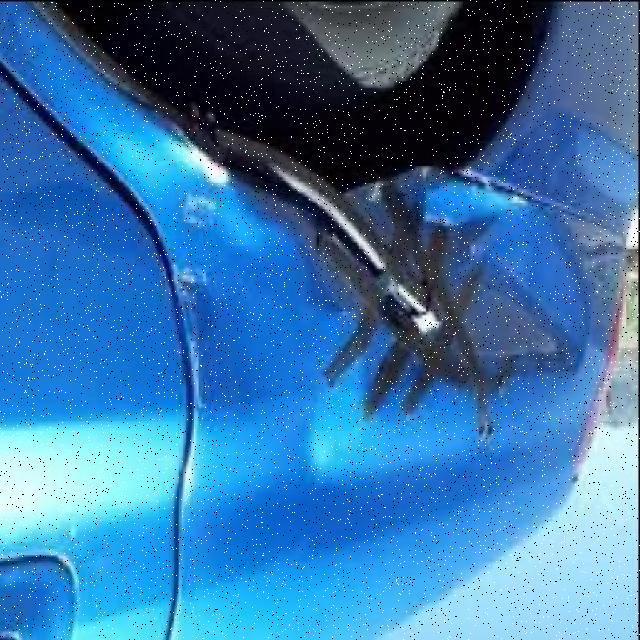damage: (307, 156, 606, 425), (166, 191, 230, 431)
